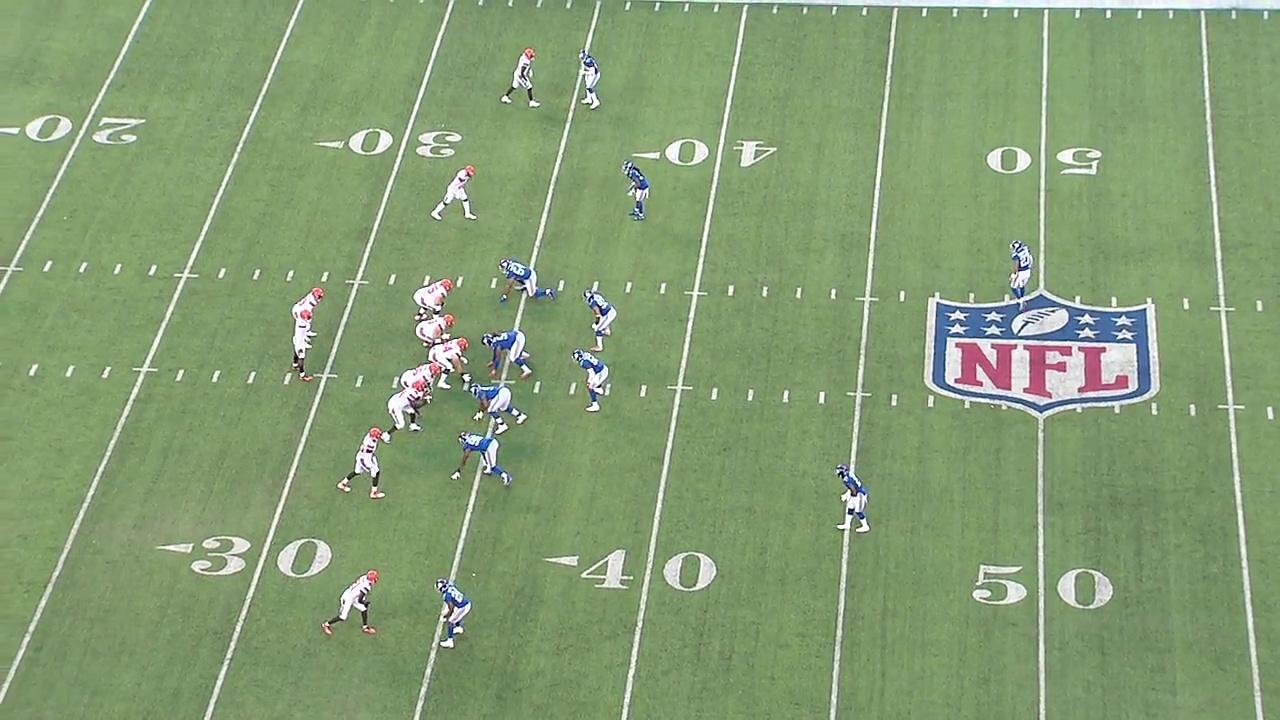five_hash: (1209, 305, 1237, 313), (683, 289, 709, 297), (1217, 403, 1246, 410), (666, 385, 694, 392), (845, 391, 873, 398), (853, 296, 880, 303), (131, 367, 160, 373), (313, 373, 338, 379), (0, 265, 24, 271), (173, 273, 200, 278), (344, 280, 370, 285)
hash: (144, 263, 160, 278), (1263, 404, 1277, 421), (41, 258, 55, 273), (724, 283, 739, 297), (99, 365, 114, 379), (623, 279, 636, 295), (1179, 297, 1192, 313), (284, 268, 297, 283), (209, 368, 221, 384), (567, 381, 579, 397), (111, 262, 124, 276), (792, 285, 805, 299), (26, 363, 39, 377), (530, 381, 544, 394), (251, 267, 263, 282), (828, 286, 840, 301), (638, 383, 649, 399), (76, 260, 89, 273), (64, 364, 77, 377), (216, 266, 228, 280), (319, 269, 331, 283), (556, 278, 568, 292), (758, 284, 770, 298), (1253, 300, 1265, 314), (353, 374, 365, 388), (781, 388, 791, 404), (657, 282, 669, 295), (454, 275, 465, 289), (897, 290, 908, 304), (174, 368, 185, 382), (246, 370, 257, 384), (390, 375, 401, 389), (926, 394, 937, 408), (1149, 402, 1160, 416), (488, 277, 500, 289), (387, 273, 398, 286), (710, 387, 720, 401), (1188, 403, 1198, 417), (817, 390, 826, 405), (420, 275, 431, 287), (591, 279, 601, 292), (745, 388, 755, 401), (283, 372, 292, 386), (890, 394, 899, 407)
number: (968, 555, 1120, 614), (576, 546, 723, 597), (187, 533, 338, 581), (981, 140, 1108, 179), (23, 111, 148, 150), (345, 125, 464, 163), (663, 135, 782, 170)
